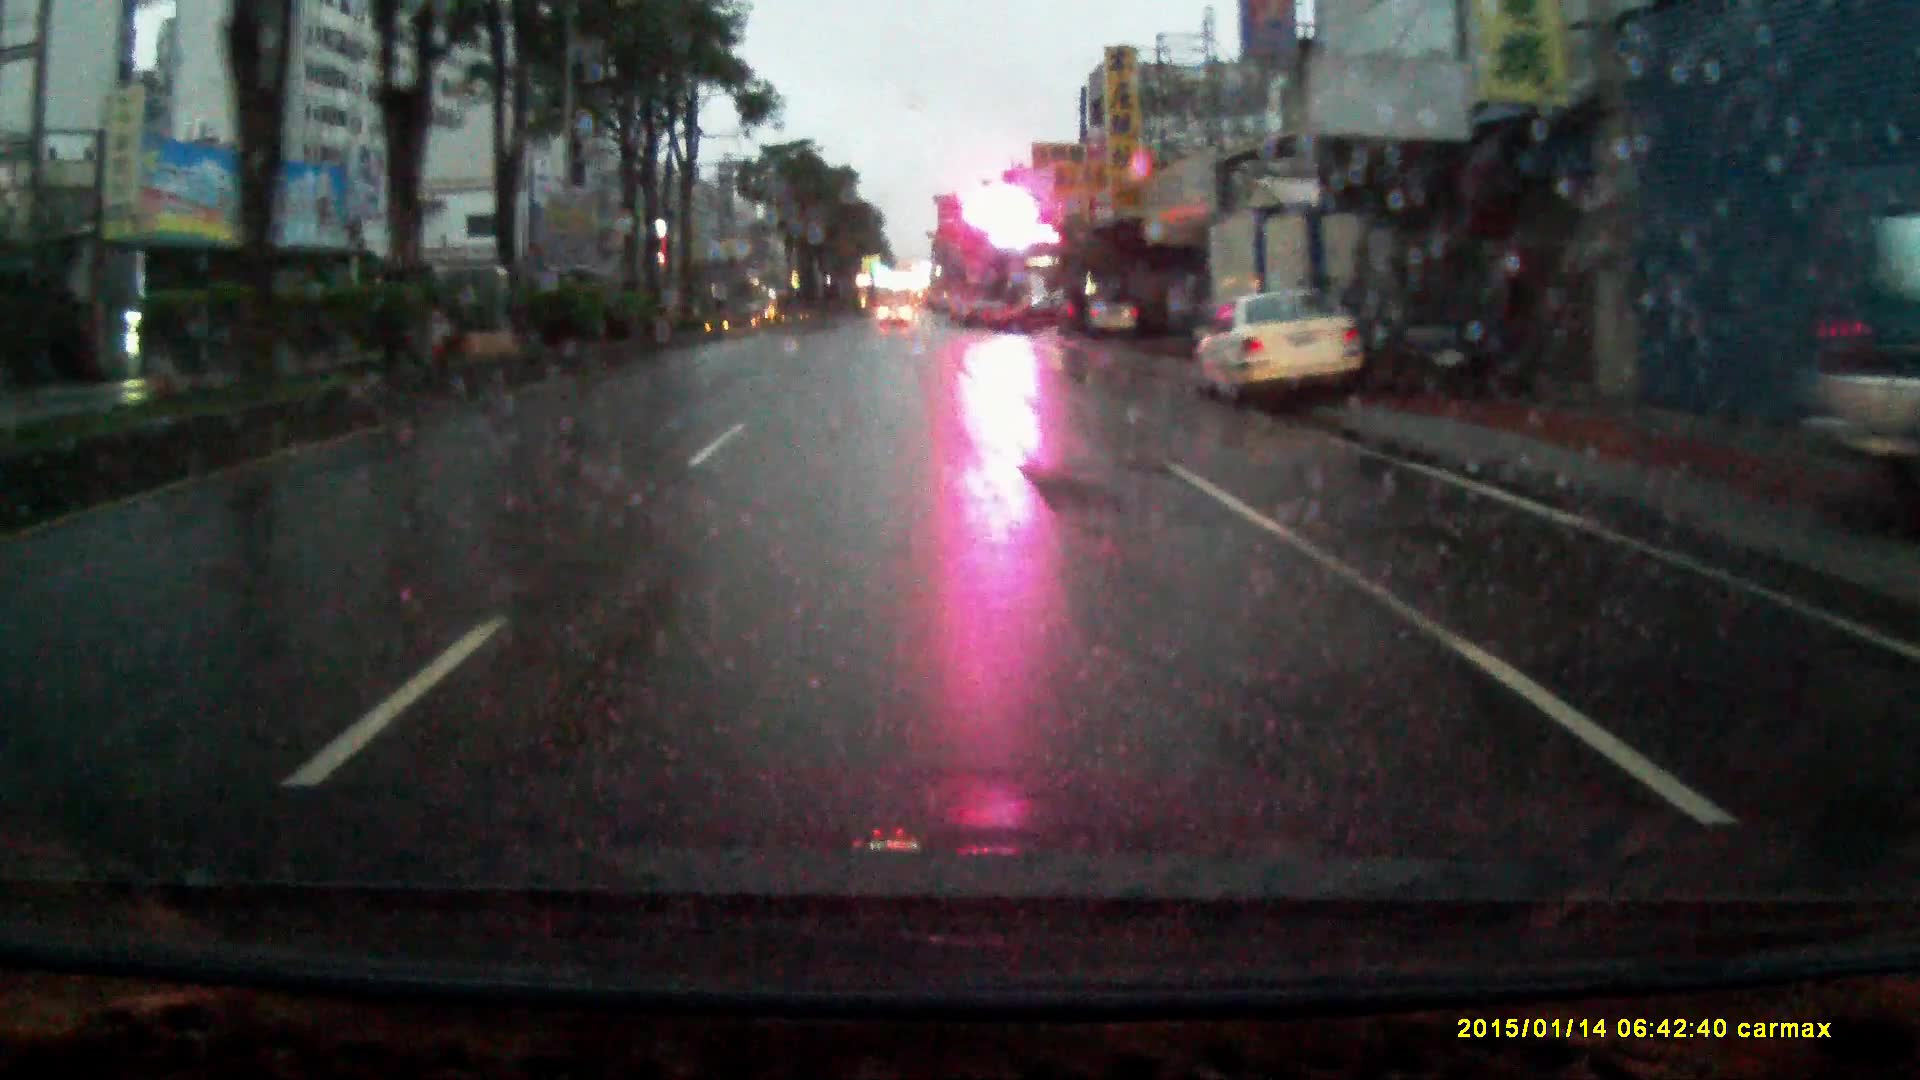vehicle: (1189, 194, 1400, 392), (1385, 218, 1569, 394), (1187, 284, 1375, 407), (990, 287, 1075, 334), (1079, 289, 1142, 338), (878, 297, 913, 328)
